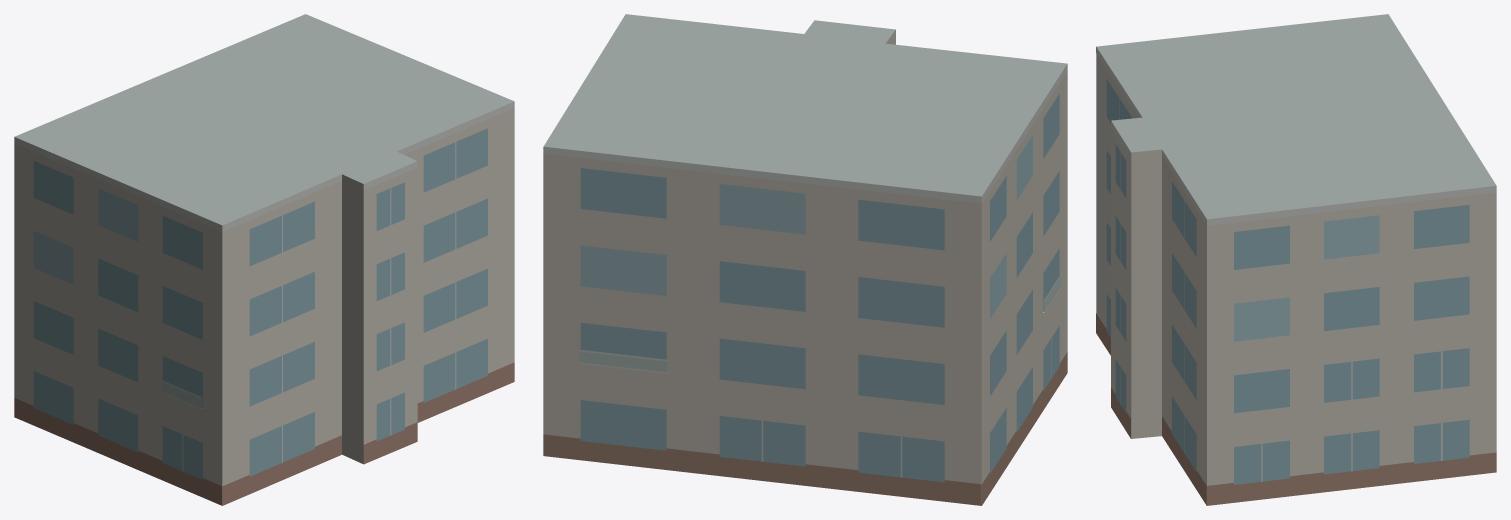
The model's file is survey-upis-32705754.glb.
The picture shows the model from 3 angles, left to right: view 1: azimuth 30°, elevation 25°; view 2: azimuth 150°, elevation 25°; view 3: azimuth 270°, elevation 25°; orthographic projection. The views are drawn at different scales.
Parts seen in each view (by area): view 1: survey-upis-32705754.tmp; view 2: survey-upis-32705754.tmp; view 3: survey-upis-32705754.tmp.
Part boxes in pixels (box(x1,y1,x2,y2)): survey-upis-32705754.tmp: box(14, 14, 514, 505); survey-upis-32705754.tmp: box(543, 14, 1067, 505); survey-upis-32705754.tmp: box(1096, 14, 1496, 505).
Size of the model in its own units: 16.37 by 10.65 by 13.5.
